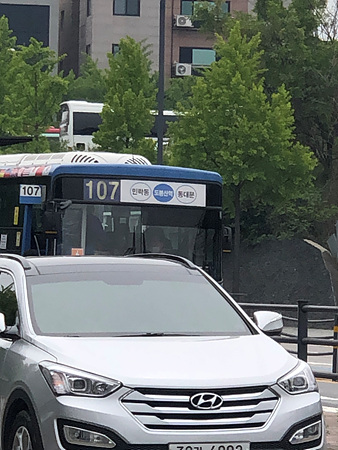bnum: (84, 178, 121, 200)
